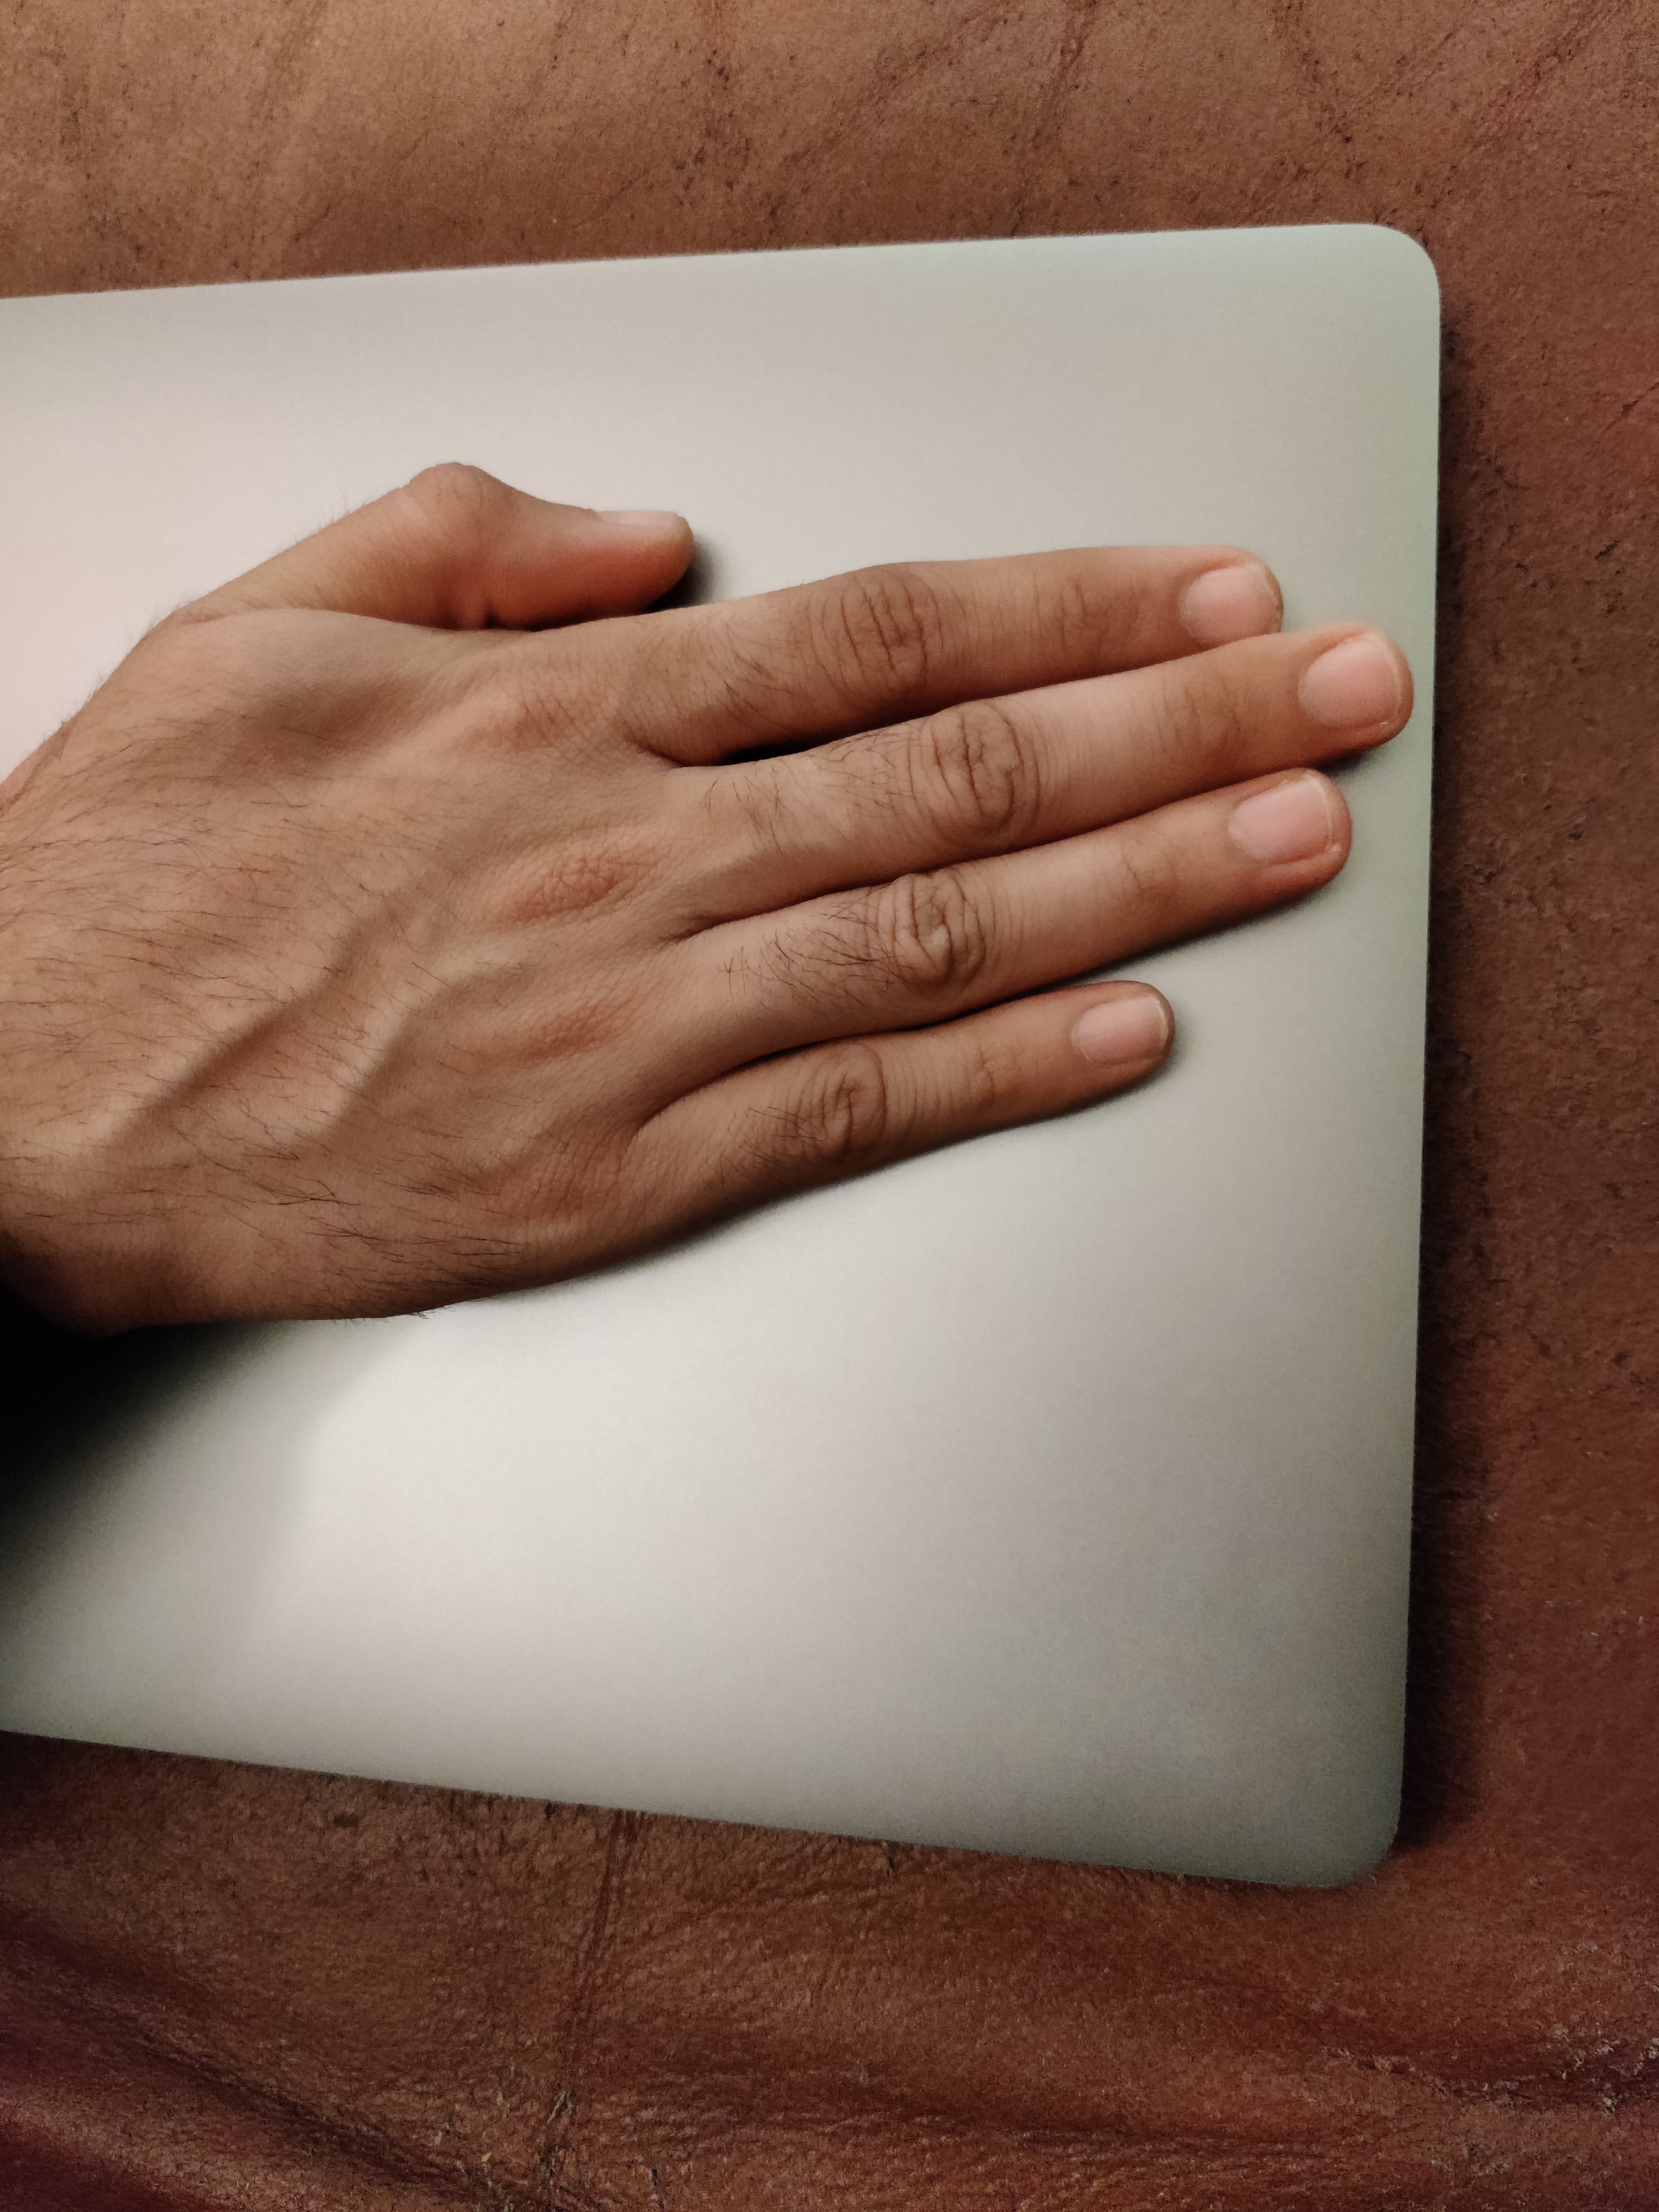left: (23, 214, 1554, 1568)
